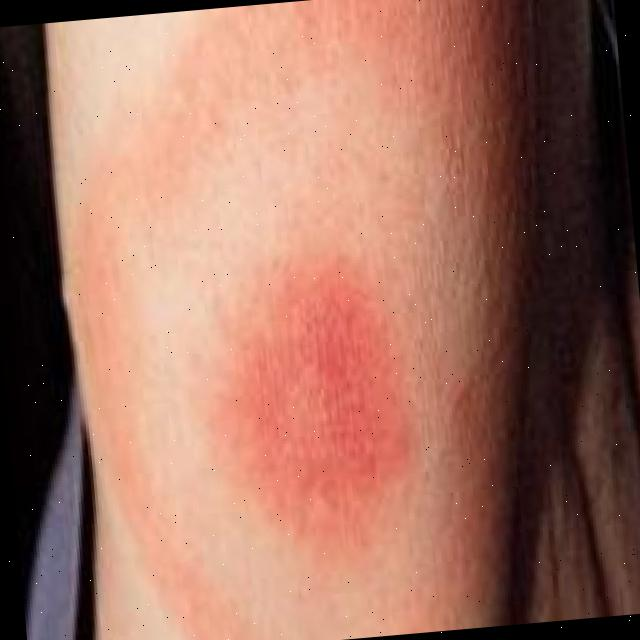kene: (29, 1, 613, 640)
